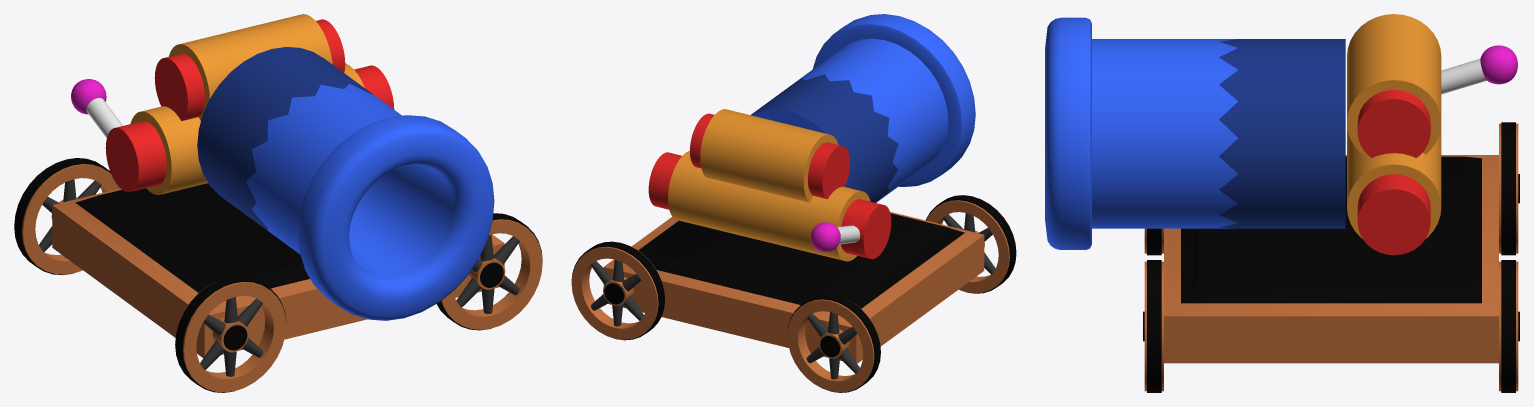
Rendered from Lucky_Shot_Cannon.fbx.
The picture shows the model from 3 angles, left to right: view 1: azimuth 30°, elevation 25°; view 2: azimuth 150°, elevation 25°; view 3: azimuth 270°, elevation 25°; orthographic projection. The views are drawn at different scales.
Visible parts, largest first — view 1: Cylinder.002, Plane.006; view 2: Cylinder.002, Plane.006; view 3: Cylinder.002, Plane.006.
Part boxes in pixels (x1=…): Cylinder.002: x1=71, y1=14, x2=494, y2=320; Plane.006: x1=14, y1=158, x2=542, y2=392; Cylinder.002: x1=648, y1=14, x2=975, y2=261; Plane.006: x1=571, y1=195, x2=1016, y2=392; Cylinder.002: x1=1045, y1=14, x2=1517, y2=255; Plane.006: x1=1143, y1=122, x2=1519, y2=392.
Size of the model in its own units: 2001 by 1392 by 2070.
